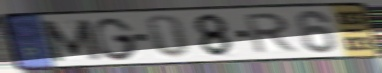0: (146, 14, 192, 61)
6: (295, 9, 338, 55)
8: (193, 12, 235, 58)
G: (91, 16, 140, 62)
M: (38, 18, 104, 63)
R: (243, 11, 301, 56)
